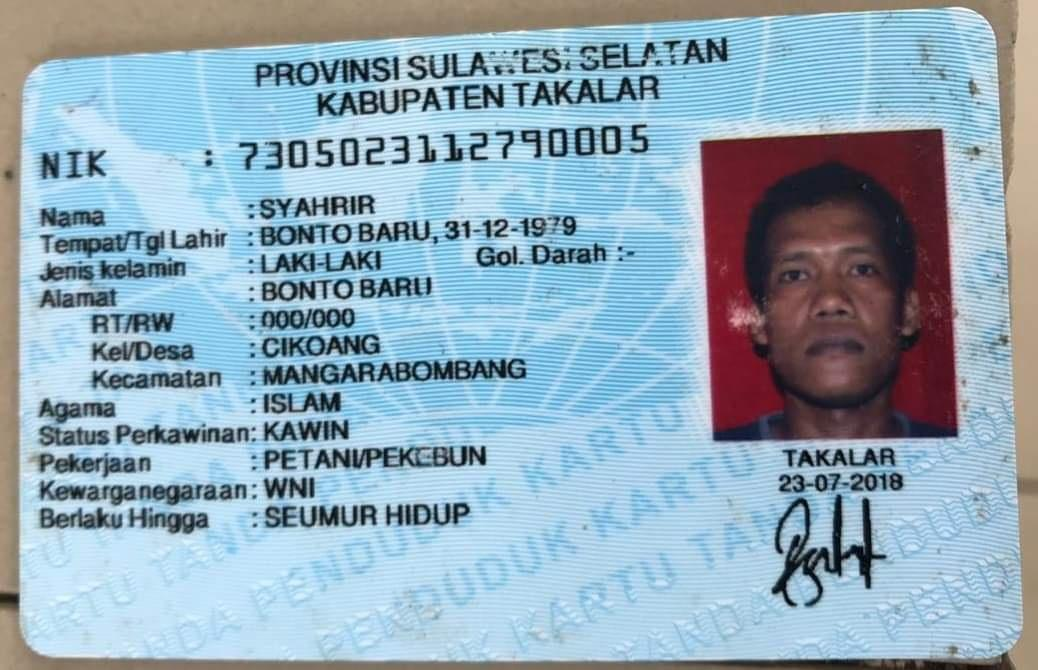ID-card: (25, 5, 1017, 654)
